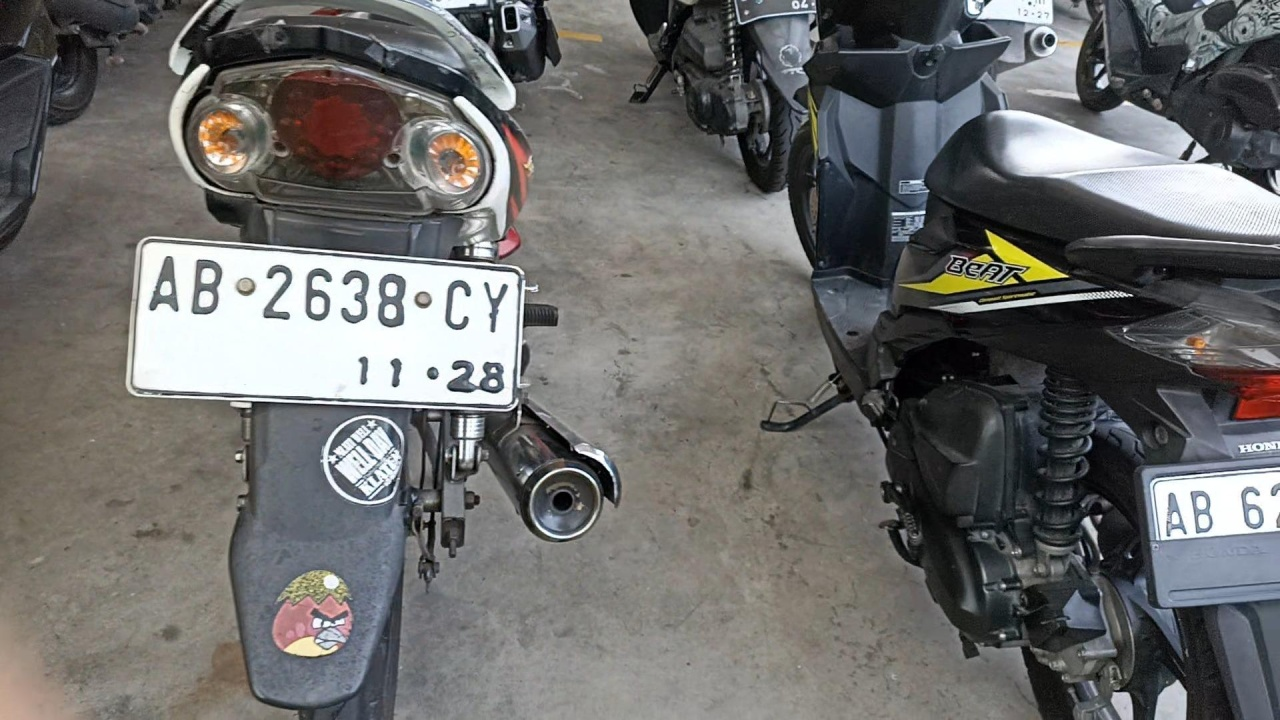plate: (128, 238, 524, 412)
